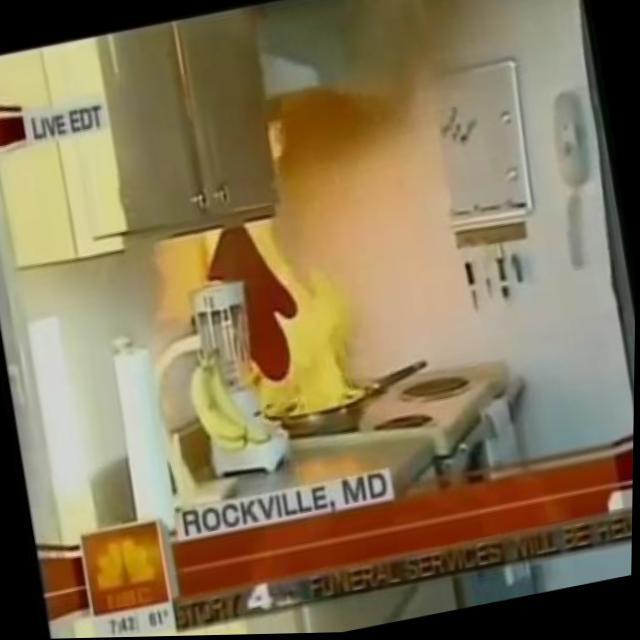fire: (178, 112, 382, 433)
